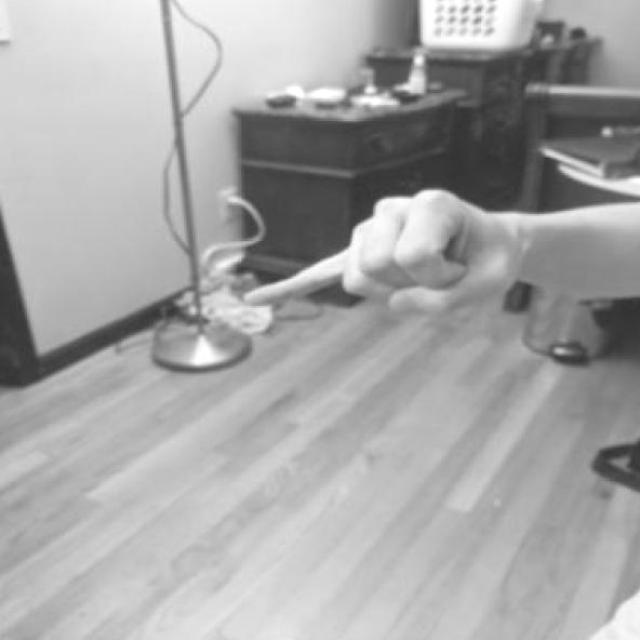J: (230, 184, 528, 331)
